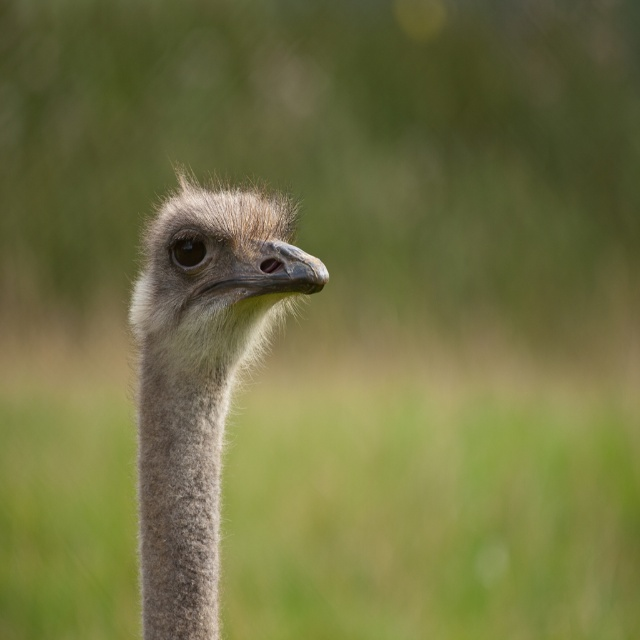Ostrich: (128, 171, 330, 639)
